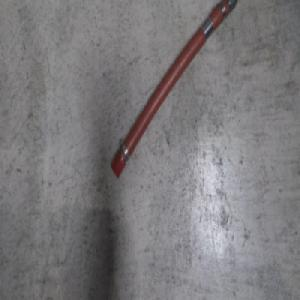Hose: (109, 0, 239, 180)
